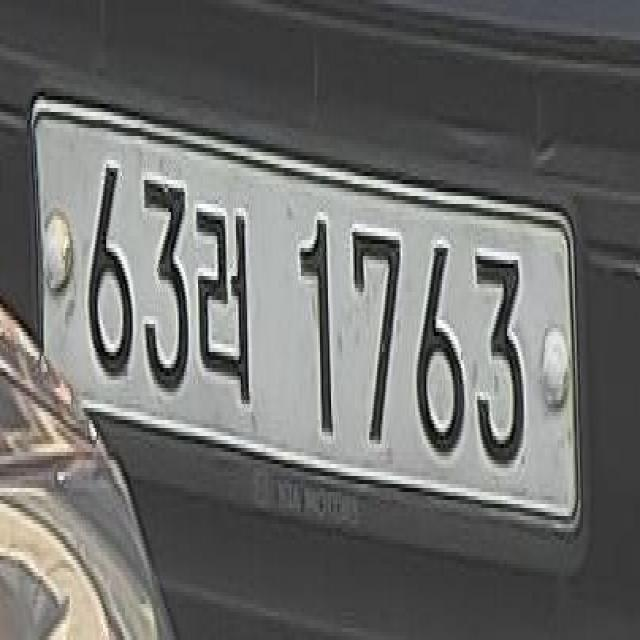1: (294, 198, 340, 447)
3: (469, 234, 528, 477), (139, 164, 191, 398)
6: (412, 223, 467, 472), (80, 147, 136, 383)
7: (348, 216, 405, 453)
leo: (194, 190, 254, 417)
license_plate: (26, 90, 592, 584)
